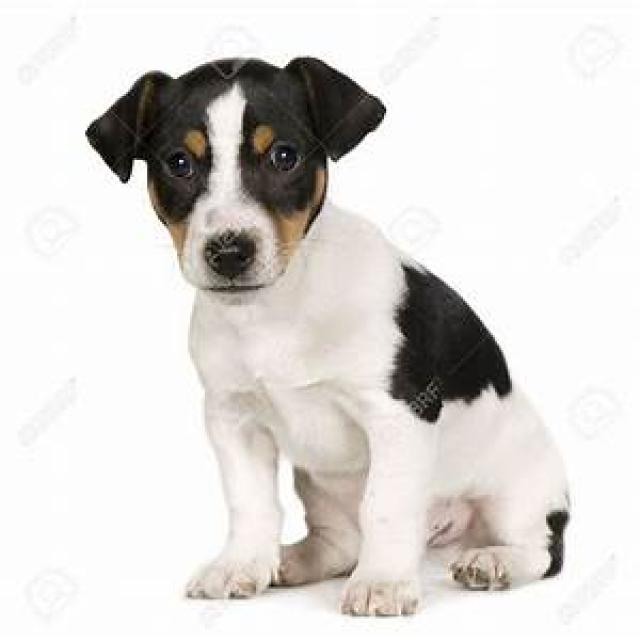dog: (85, 55, 572, 619)
